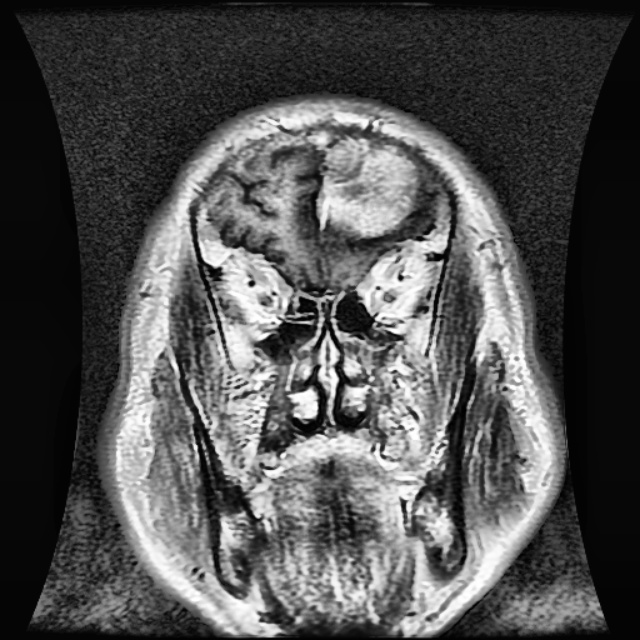Glioma: (314, 137, 418, 238)
